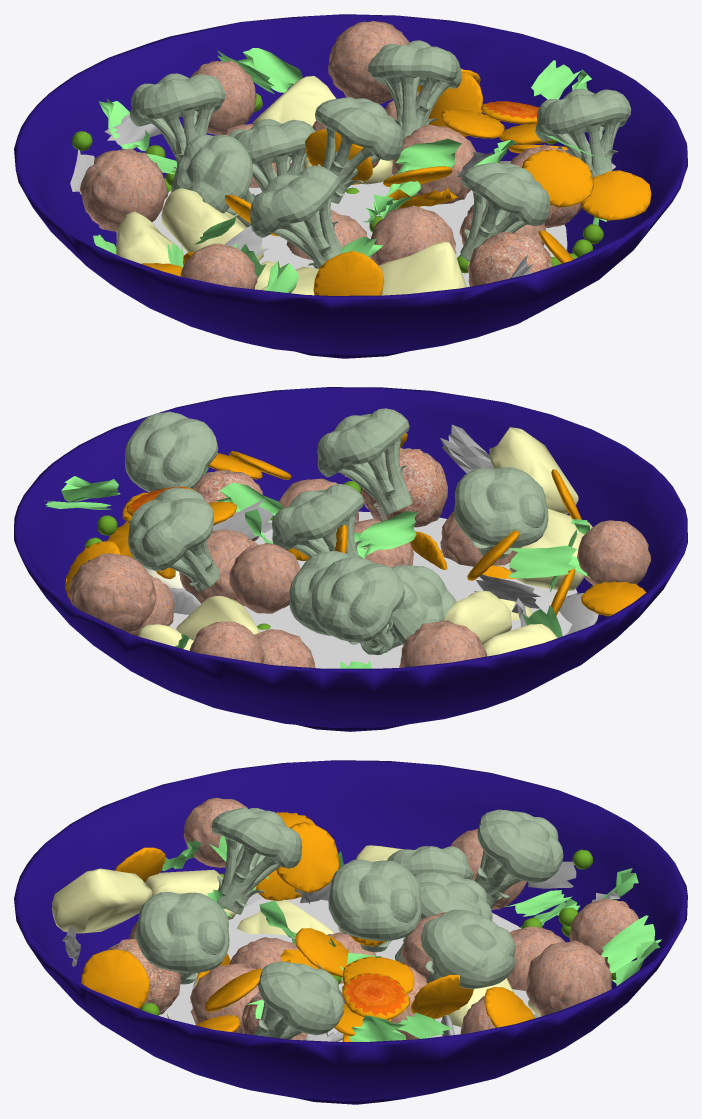
Rendered from capcayyy.fbx.
The picture shows the model from 3 angles, top to bottom: view 1: azimuth 30°, elevation 25°; view 2: azimuth 150°, elevation 25°; view 3: azimuth 270°, elevation 25°; orthographic projection.
Visible parts, largest first — view 1: soup, brkoli.006, brkoli.005, brkoli.001, brkoli.007, brkoli.002, brkoli.004, brkoli, Cylinder, brkoli.003; view 2: soup, brkoli.004, brkoli.005, brkoli.006, Cylinder, brkoli.001, brkoli.007, brkoli.002, brkoli, brkoli.003; view 3: soup, brkoli.002, brkoli.001, brkoli.006, brkoli.004, brkoli.005, brkoli.007, Cylinder, brkoli.003, brkoli.
Part boxes in pixels (x1=…): soup: x1=14, y1=14, x2=687, y2=358; brkoli.006: x1=250, y1=165, x2=341, y2=268; brkoli.005: x1=368, y1=40, x2=461, y2=139; brkoli.001: x1=460, y1=162, x2=549, y2=261; brkoli.007: x1=535, y1=88, x2=631, y2=177; brkoli.002: x1=315, y1=97, x2=402, y2=203; brkoli.004: x1=129, y1=73, x2=225, y2=168; brkoli: x1=171, y1=134, x2=258, y2=227; Cylinder: x1=152, y1=160, x2=567, y2=287; brkoli.003: x1=228, y1=119, x2=315, y2=191; soup: x1=14, y1=387, x2=687, y2=731; brkoli.004: x1=311, y1=556, x2=404, y2=655; brkoli.005: x1=128, y1=487, x2=219, y2=591; brkoli.006: x1=454, y1=467, x2=548, y2=559; Cylinder: x1=169, y1=511, x2=577, y2=668; brkoli.001: x1=317, y1=408, x2=412, y2=515; brkoli.007: x1=125, y1=411, x2=218, y2=492; brkoli.002: x1=272, y1=484, x2=364, y2=557; brkoli: x1=360, y1=565, x2=456, y2=654; brkoli.003: x1=289, y1=550, x2=359, y2=644; soup: x1=14, y1=760, x2=687, y2=1104; brkoli.002: x1=328, y1=859, x2=421, y2=952; brkoli.001: x1=136, y1=892, x2=229, y2=984; brkoli.006: x1=211, y1=807, x2=302, y2=914; brkoli.004: x1=474, y1=809, x2=563, y2=909; brkoli.005: x1=421, y1=909, x2=515, y2=988; brkoli.007: x1=254, y1=961, x2=344, y2=1039; Cylinder: x1=159, y1=897, x2=537, y2=1041; brkoli.003: x1=395, y1=871, x2=492, y2=963; brkoli: x1=387, y1=846, x2=473, y2=941.
Bounding box in the file's own units: 7080 × 2299 × 7070.
